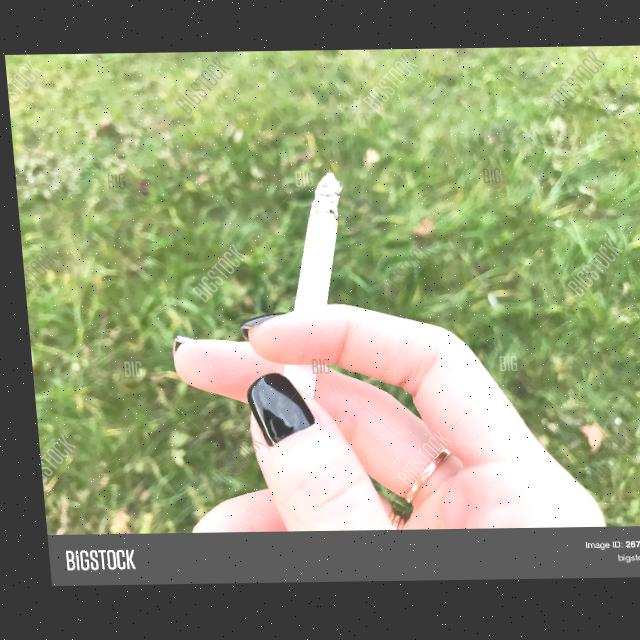cigarette: (261, 170, 355, 399)
